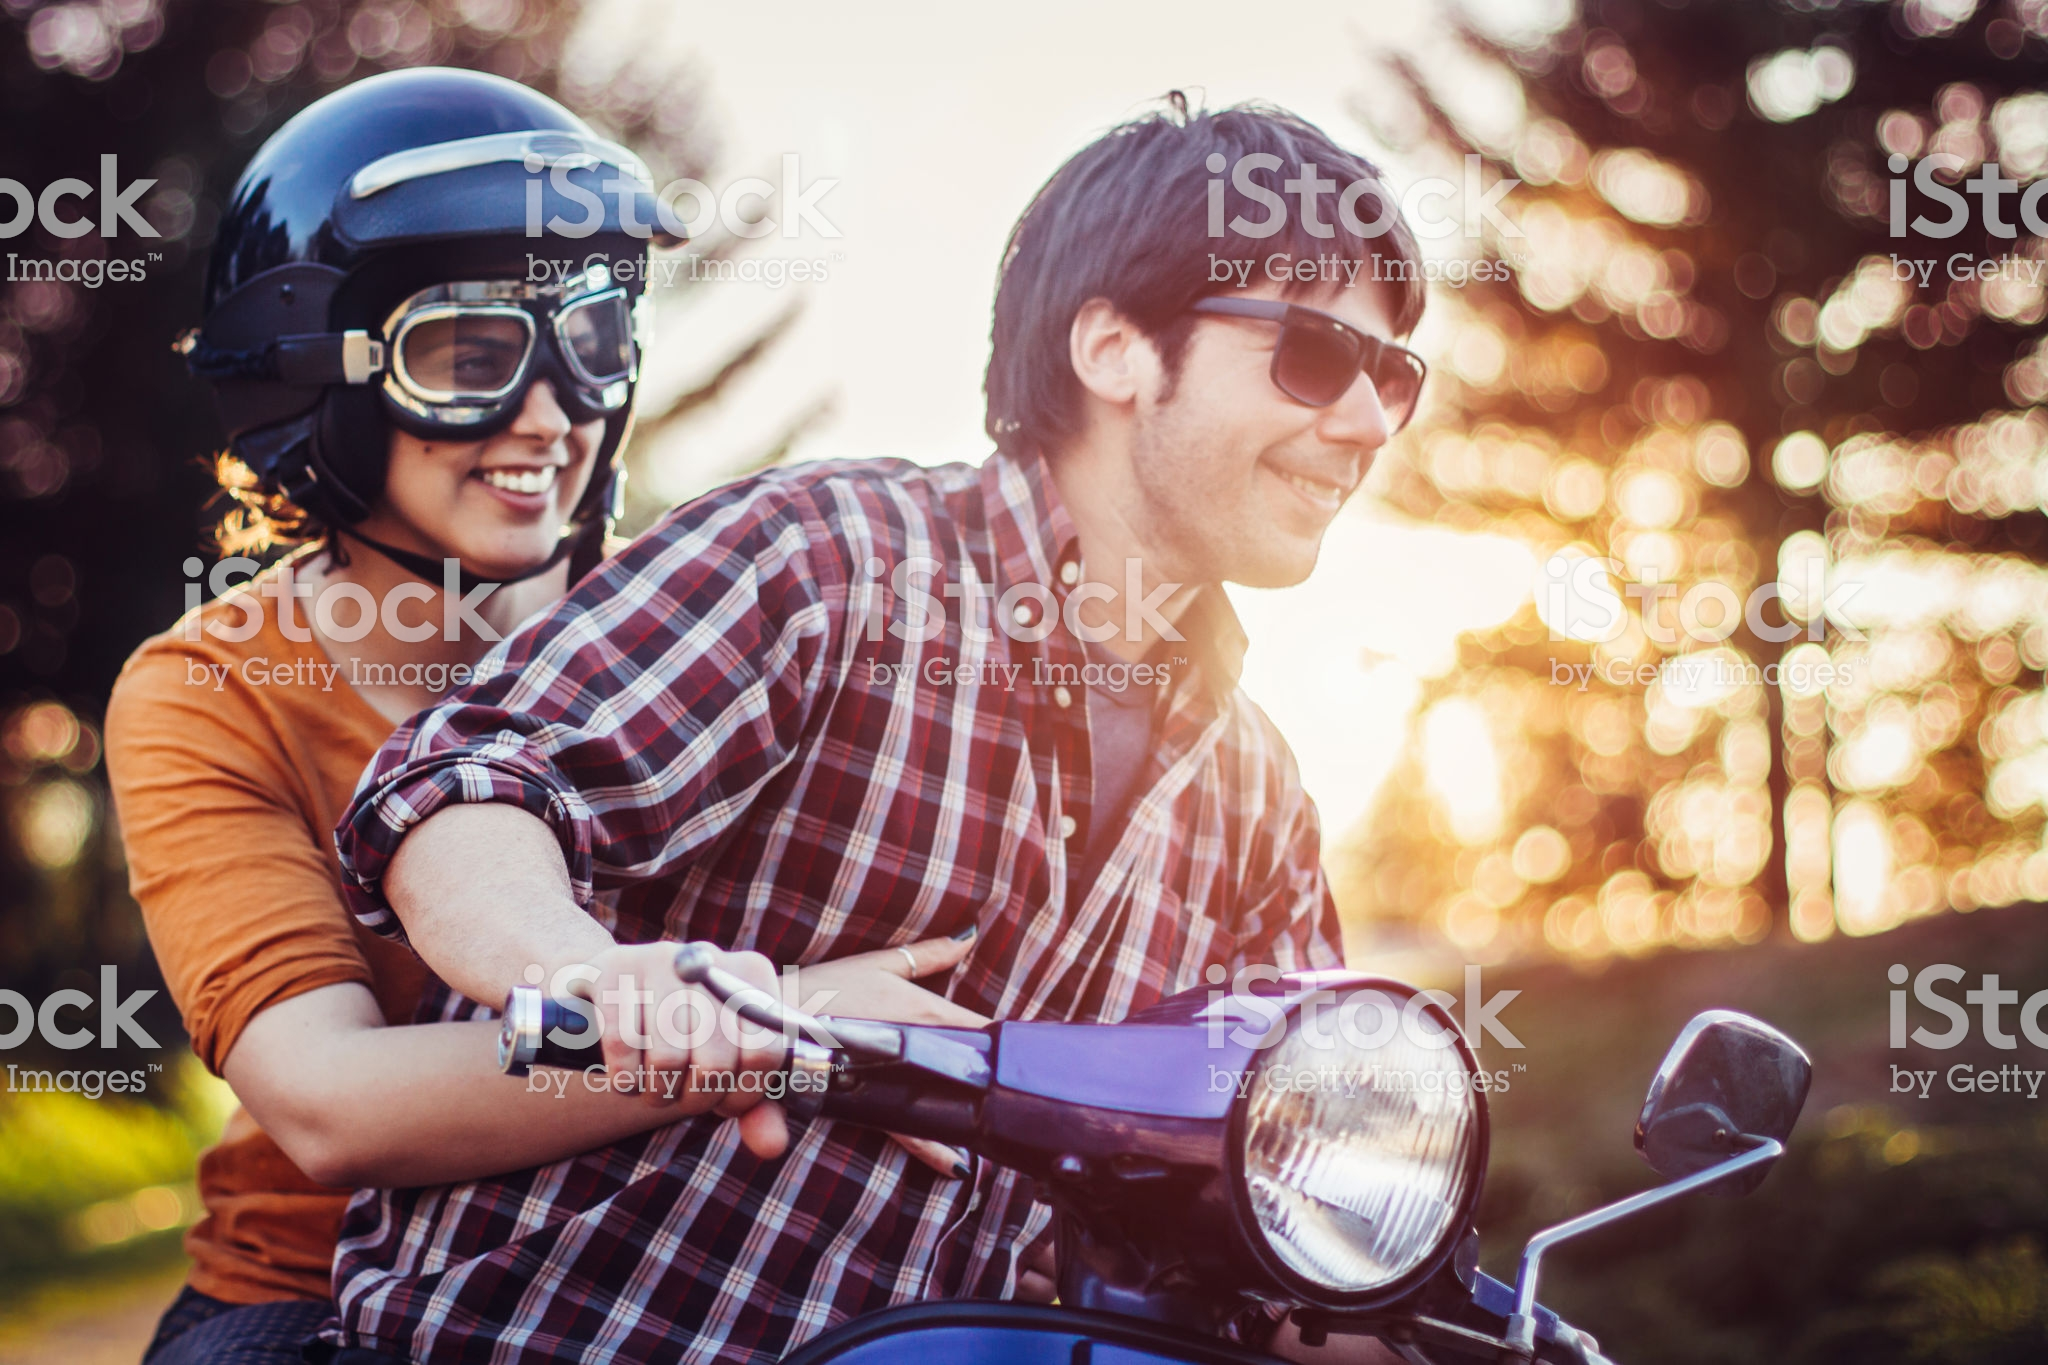helmet: (212, 101, 678, 433)
